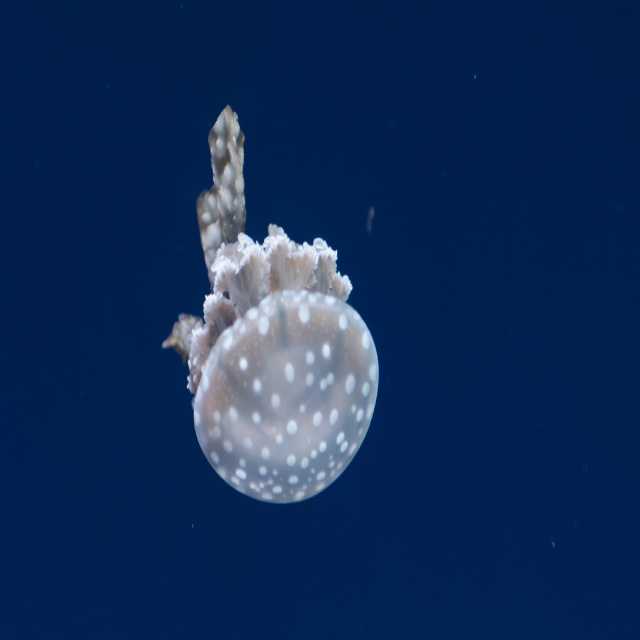Jellyfish: (161, 103, 378, 522)
